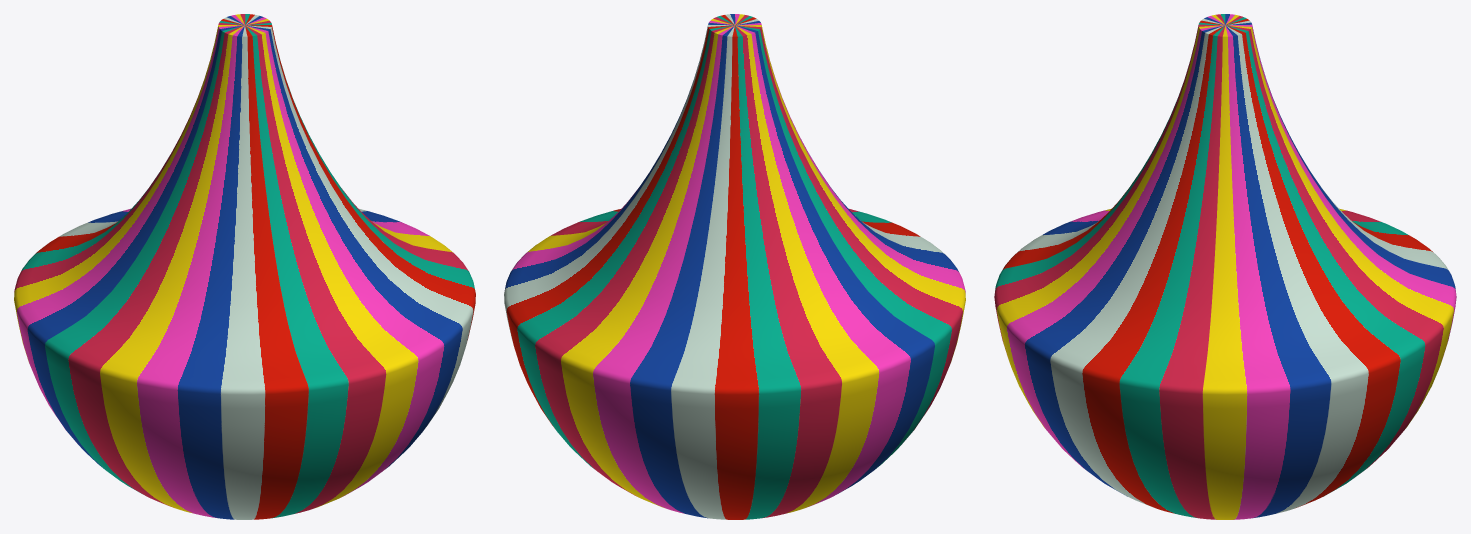
The model's file is B-11_Onstick.fbx.
The picture shows the model from 3 angles, left to right: view 1: azimuth 30°, elevation 25°; view 2: azimuth 150°, elevation 25°; view 3: azimuth 270°, elevation 25°; orthographic projection.
Visible parts, largest first — view 1: B-11; view 2: B-11; view 3: B-11.
Part boxes in pixels (x1,y1,x2,y2): B-11: [14, 14, 475, 519]; B-11: [504, 14, 965, 519]; B-11: [994, 14, 1456, 519].
Size of the model in its own units: 0.745 by 0.8517 by 0.745.
1 material, 1 textured.
